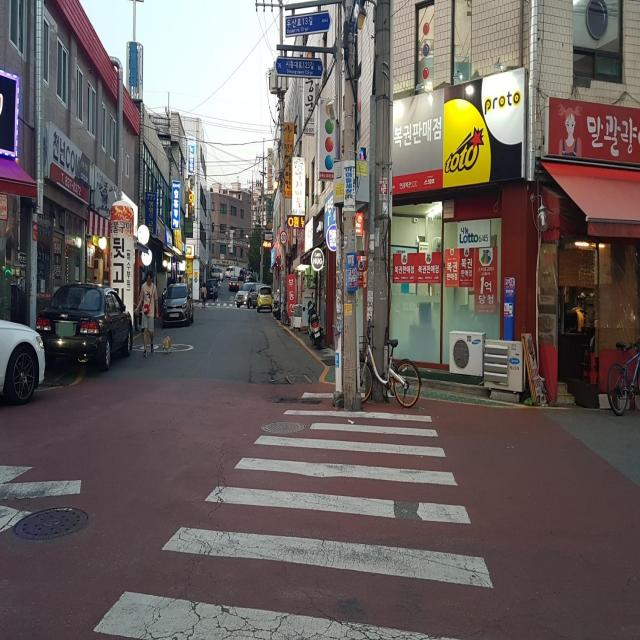횡단보도: (91, 389, 495, 639)
